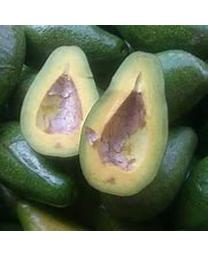avocado: (78, 48, 171, 197), (19, 42, 100, 160)
